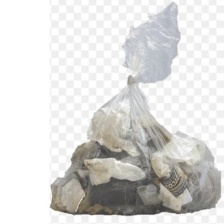plastic_bag: (47, 0, 224, 222)
